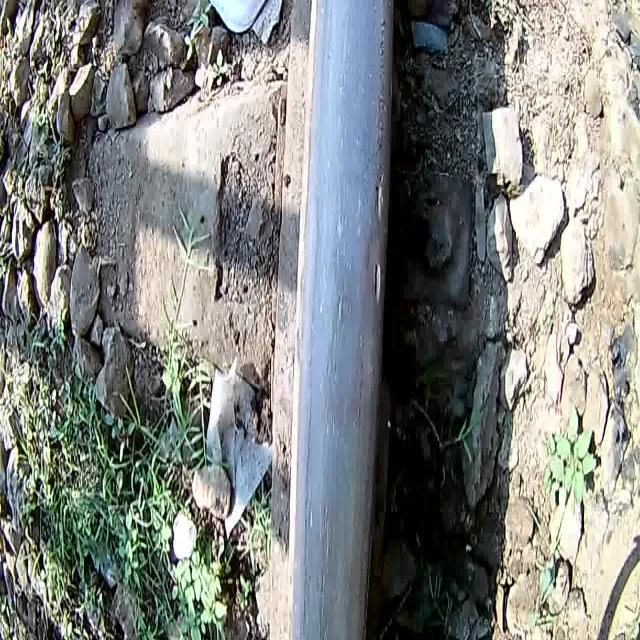Cracks: (324, 248, 354, 386), (314, 495, 338, 640)
Grooves: (299, 373, 314, 640)
Shellings: (356, 341, 378, 607), (373, 0, 390, 178), (360, 476, 378, 640), (354, 319, 366, 432)
Spallings: (370, 253, 384, 310), (373, 178, 386, 225)
